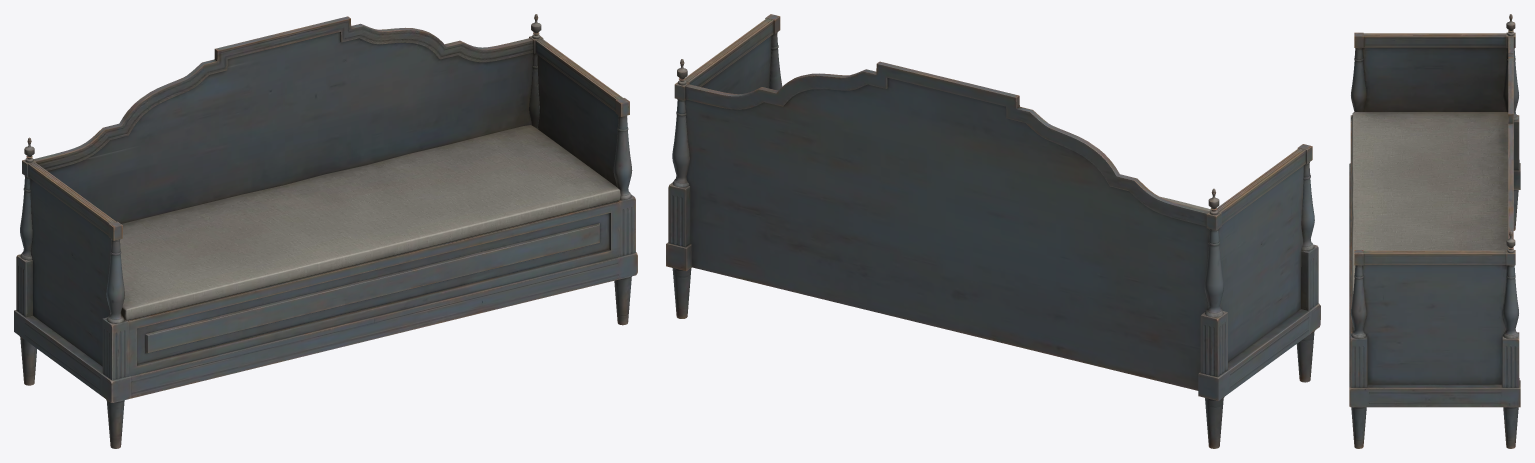
The model's file is painted_wooden_sofa.glb.
The picture shows the model from 3 angles, left to right: view 1: azimuth 30°, elevation 25°; view 2: azimuth 150°, elevation 25°; view 3: azimuth 270°, elevation 25°; orthographic projection. The views are drawn at different scales.
Visible parts, largest first — view 1: painted_wooden_sofa; view 2: painted_wooden_sofa; view 3: painted_wooden_sofa.
Boxes of the visible parts, box(x1,y1,x2,y2) form: painted_wooden_sofa: box(14, 14, 637, 448); painted_wooden_sofa: box(666, 14, 1320, 448); painted_wooden_sofa: box(1349, 14, 1520, 448).
Bounding box in the file's own units: 2.45 × 1.28 × 0.7872.
1 material, 1 textured.
